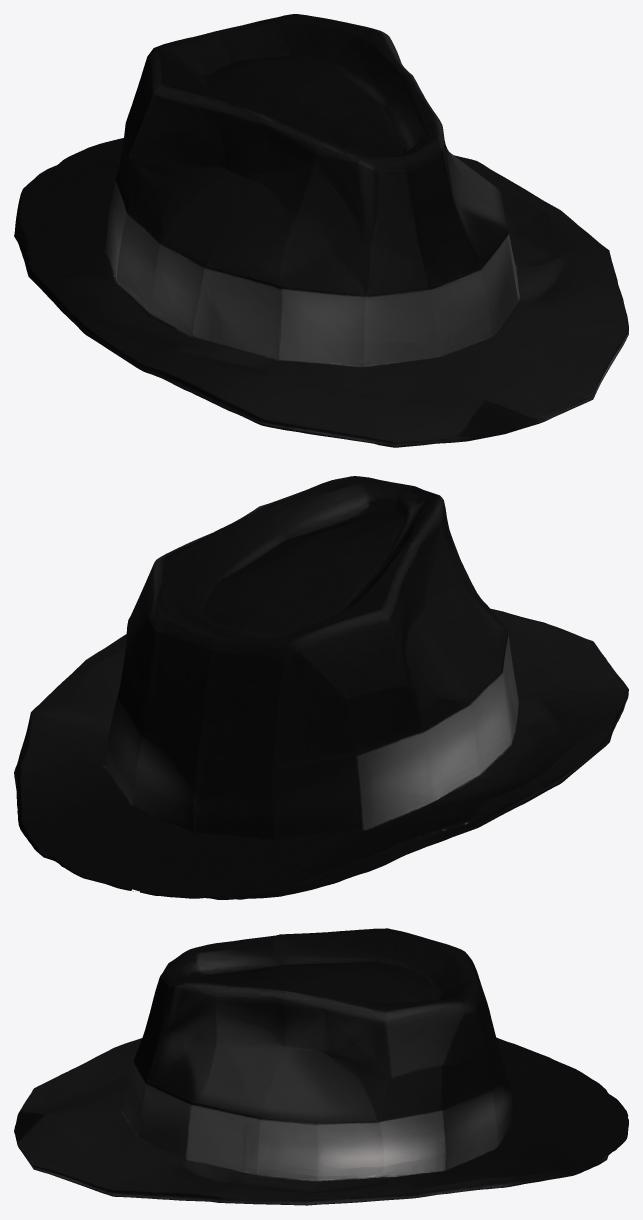
The picture shows the model from 3 angles, top to bottom: view 1: azimuth 30°, elevation 25°; view 2: azimuth 150°, elevation 25°; view 3: azimuth 270°, elevation 25°; orthographic projection. The views are drawn at different scales.
Parts seen in each view (by area): view 1: world; view 2: world; view 3: world.
Part boxes in pixels (x1=…): world: x1=14, y1=14, x2=628, y2=447; world: x1=14, y1=476, x2=628, y2=899; world: x1=14, y1=928, x2=628, y2=1205.
Bounding box in the file's own units: 0.7049 × 0.3037 × 0.9934.
1 material, 1 textured.
